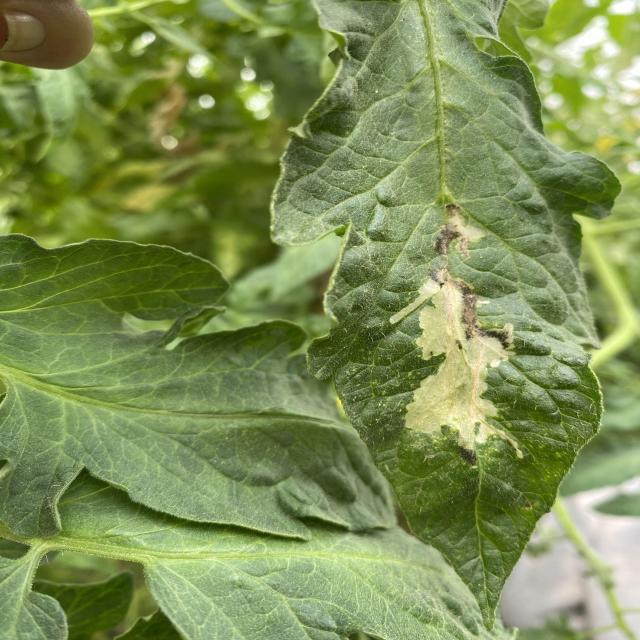Tuta absoluta: (383, 263, 532, 474), (433, 203, 489, 263)
